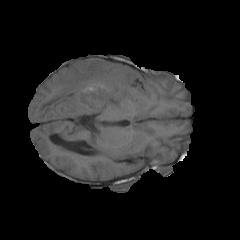glioma: (39, 58, 137, 113)
